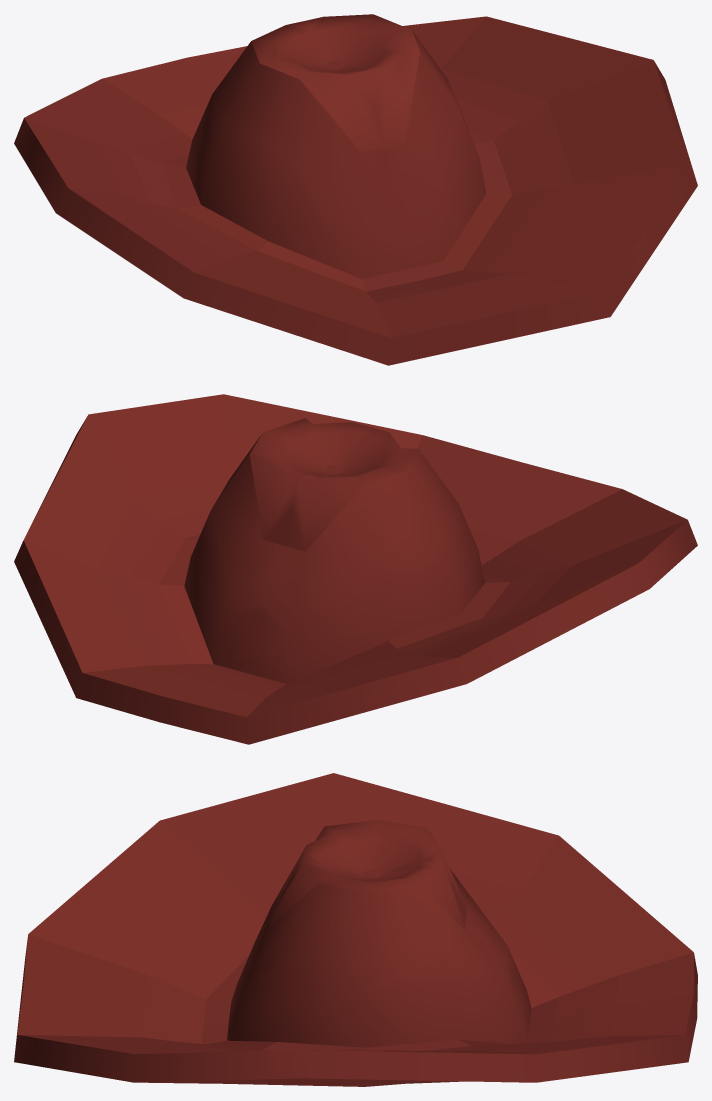
File: kapelusz.FBX
3 views of the same model, one above another, from view 1: azimuth 30°, elevation 25°; view 2: azimuth 150°, elevation 25°; view 3: azimuth 270°, elevation 25° (orthographic).
Parts seen in each view (by area): view 1: Cylinder003; view 2: Cylinder003; view 3: Cylinder003.
Boxes of the visible parts, x1,y1,x2,y2 form: Cylinder003: (14, 14, 697, 365); Cylinder003: (14, 394, 697, 744); Cylinder003: (14, 773, 697, 1086).
Bounding box in the file's own units: 145 × 46.08 × 145.
